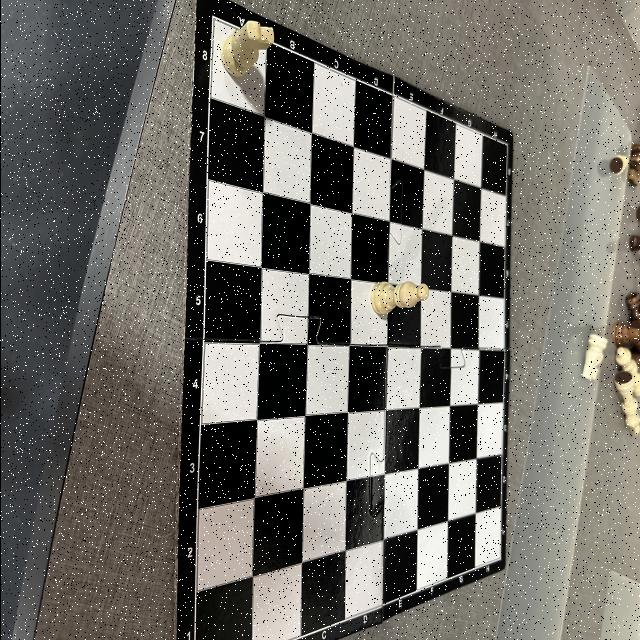Black-Knight: (627, 140, 640, 188)
Black-Pawn: (611, 322, 640, 346)
Black-Rook: (626, 290, 638, 320)
White-Bishop: (371, 282, 429, 316)
White-King: (613, 372, 639, 436)
White-Knight: (220, 22, 274, 78), (580, 333, 607, 381)
White-Pawn: (608, 154, 628, 176)
White-Queen: (614, 347, 640, 398)
